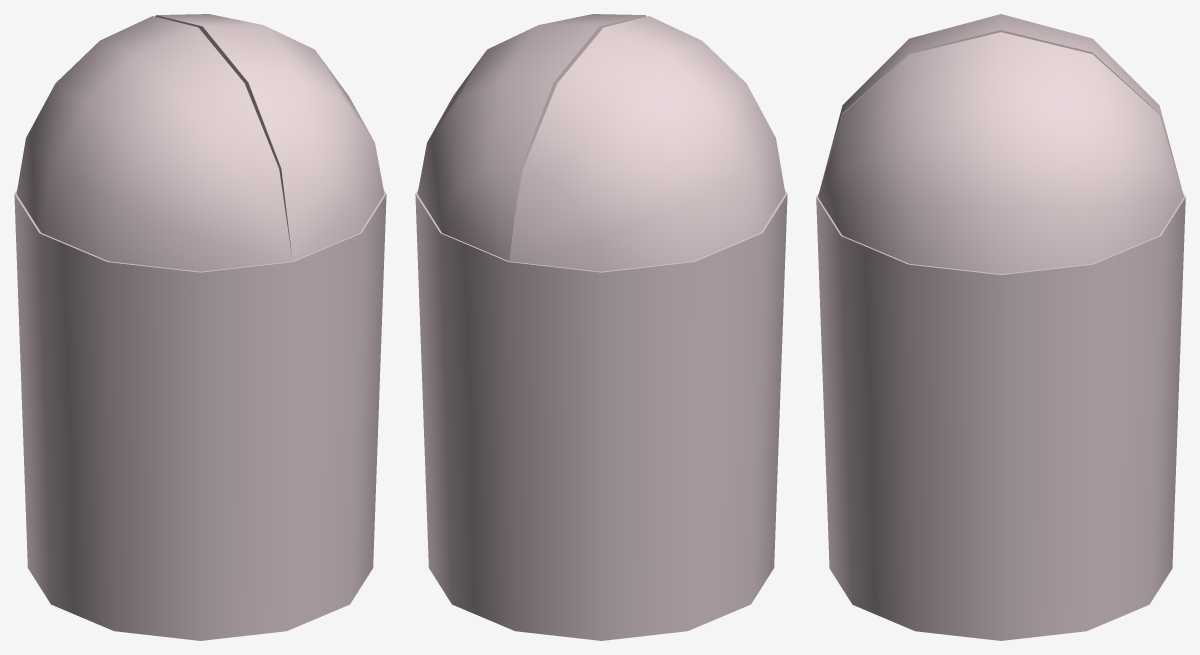
Rendered from Trash_Bin.fbx.
3 views of the same model, side by side, from view 1: azimuth 30°, elevation 25°; view 2: azimuth 150°, elevation 25°; view 3: azimuth 270°, elevation 25° (orthographic).
Visible parts, largest first — view 1: Trash_Bin, Trash_Bin_Top; view 2: Trash_Bin, Trash_Bin_Top; view 3: Trash_Bin, Trash_Bin_Top.
Part boxes in pixels (x1,y1,x2,y2): Trash_Bin: [14, 190, 386, 640]; Trash_Bin_Top: [16, 14, 384, 271]; Trash_Bin: [415, 190, 787, 640]; Trash_Bin_Top: [417, 14, 785, 271]; Trash_Bin: [816, 193, 1185, 640]; Trash_Bin_Top: [818, 14, 1183, 273].
Size of the model in its own units: 26.56 by 42.61 by 26.56.
